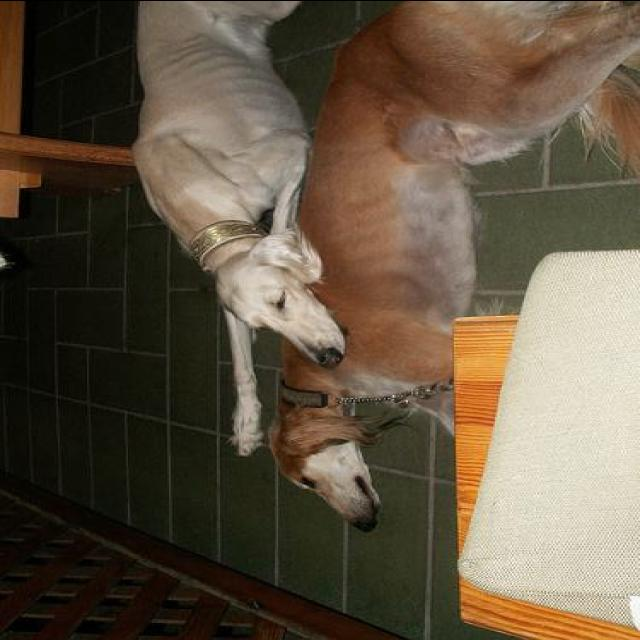saluki: (268, 1, 638, 531), (128, 1, 350, 457)
